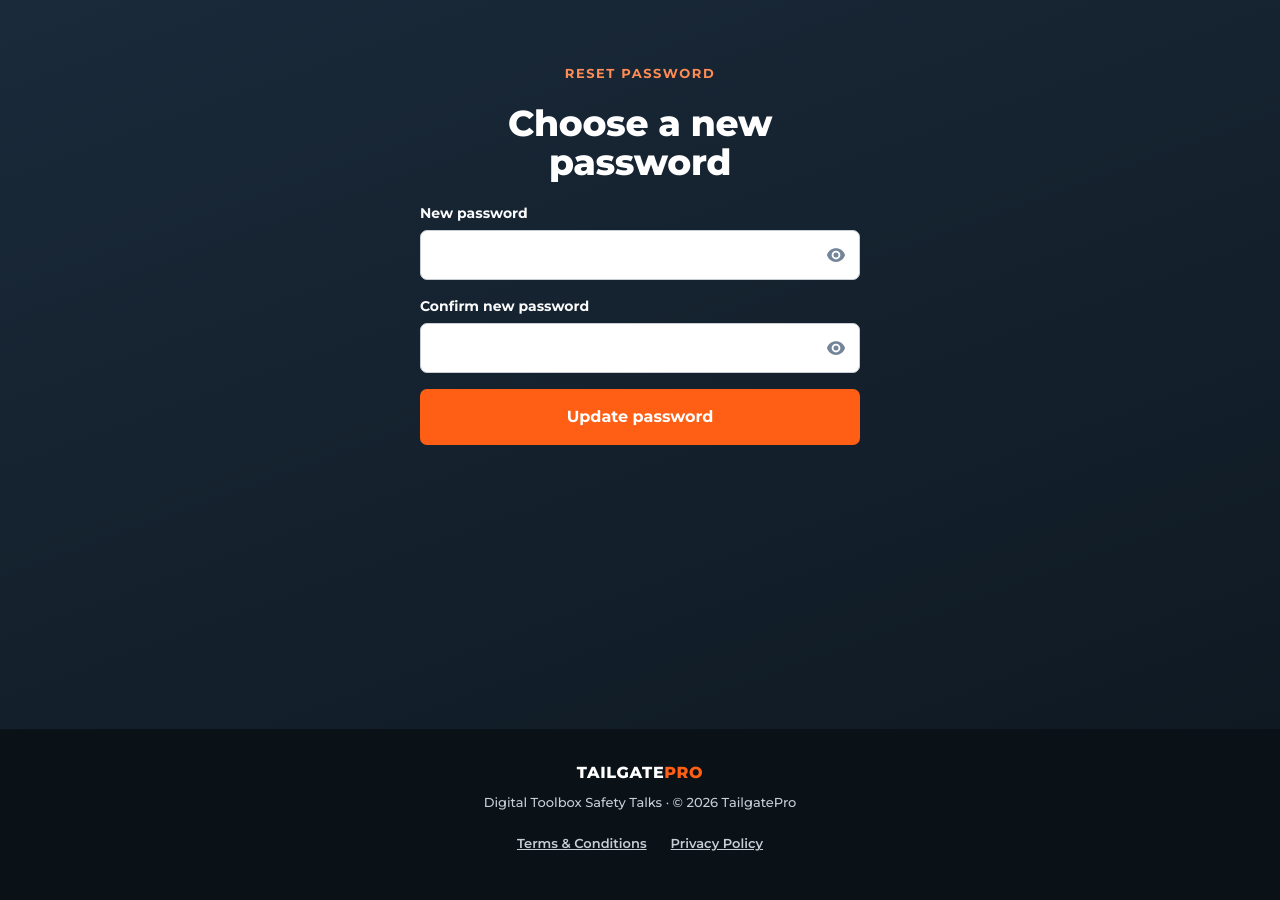
Scenario: ResetPassword page › shows a validation error when the passwords don't match
Type "supersecret" into the password field labelled "New password" at (640, 255), box [420,230,860,280]
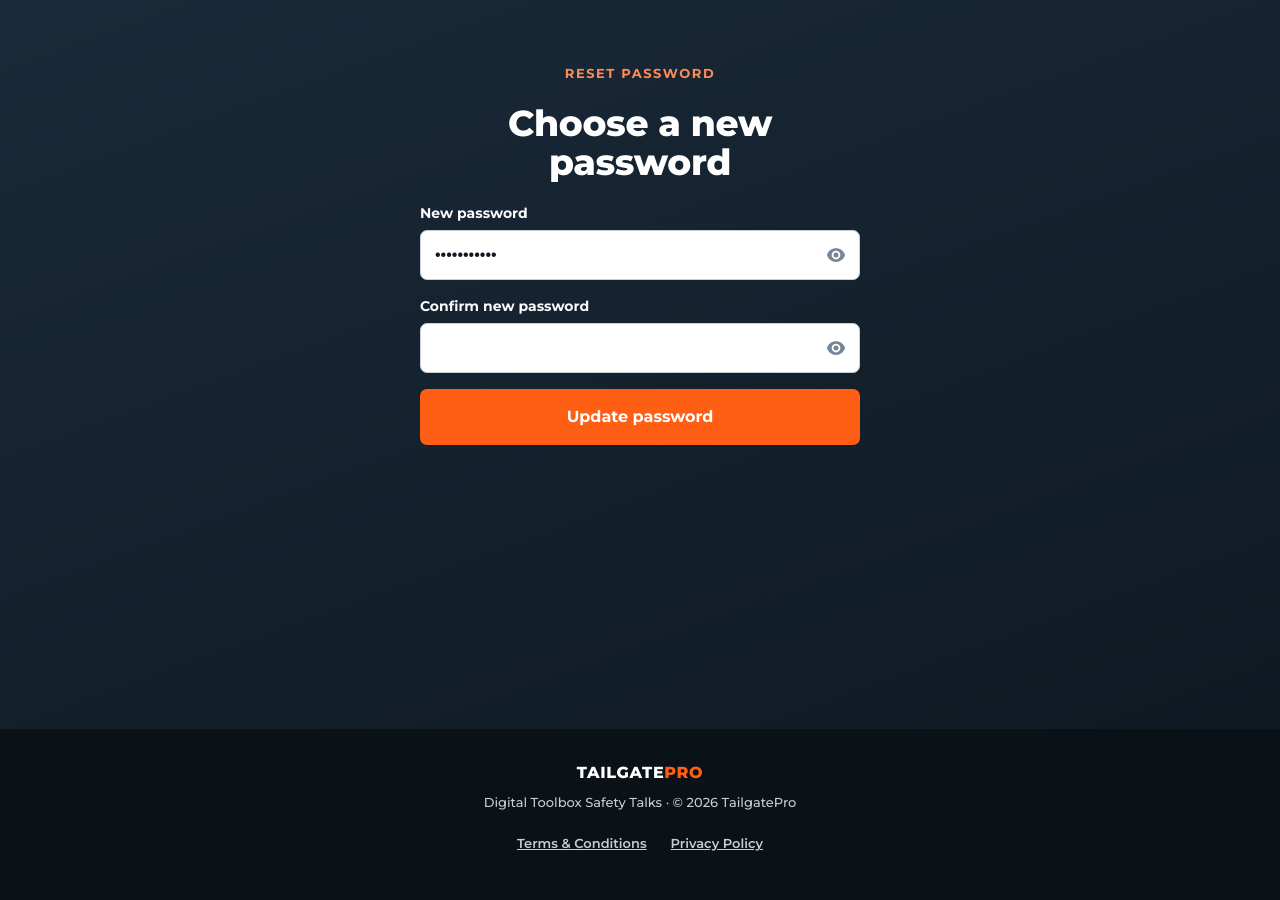
Type "different" into the password field labelled "Confirm new password" at (640, 348), box [420,323,860,373]
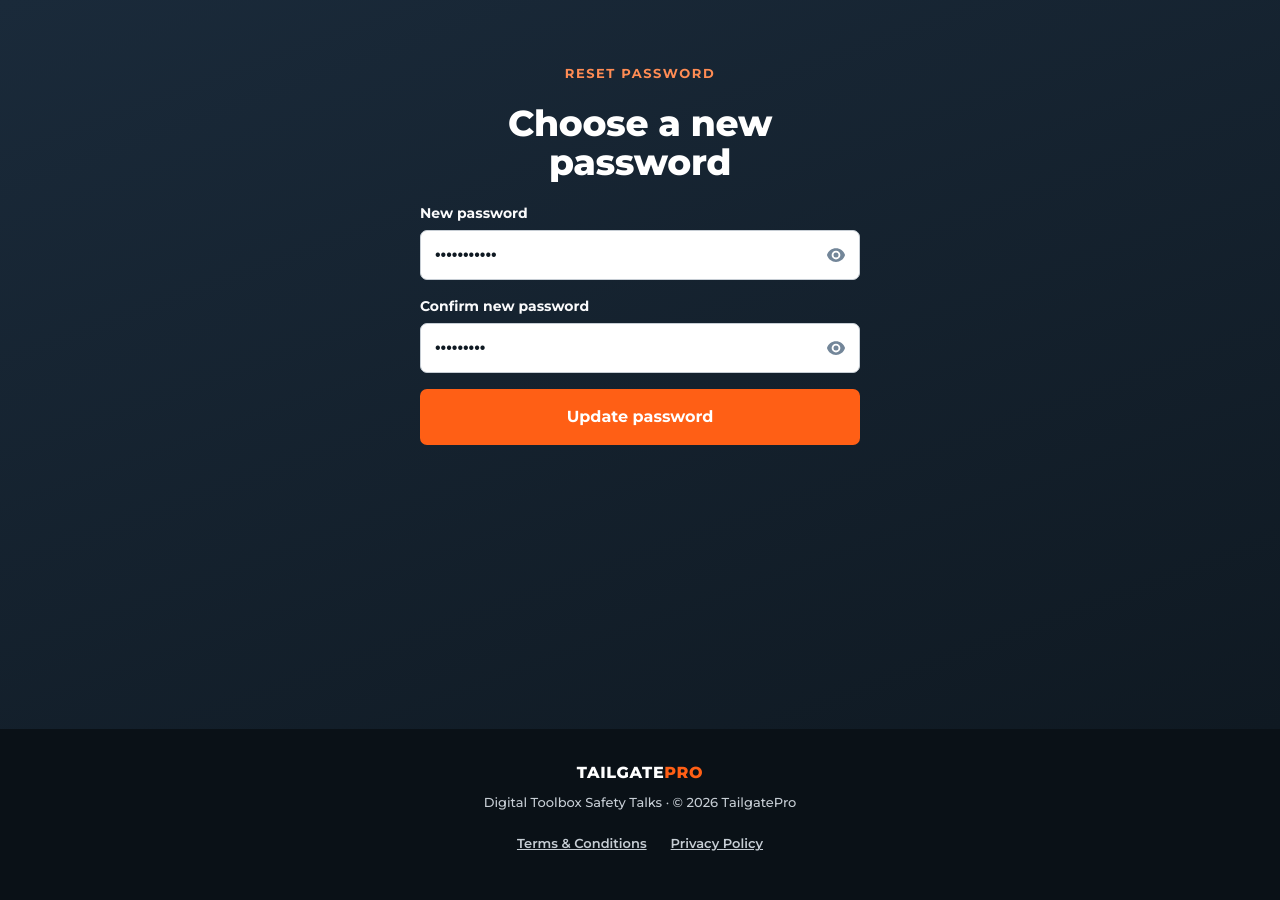
Click the button "Update password" at (640, 417), box [420,389,860,445]
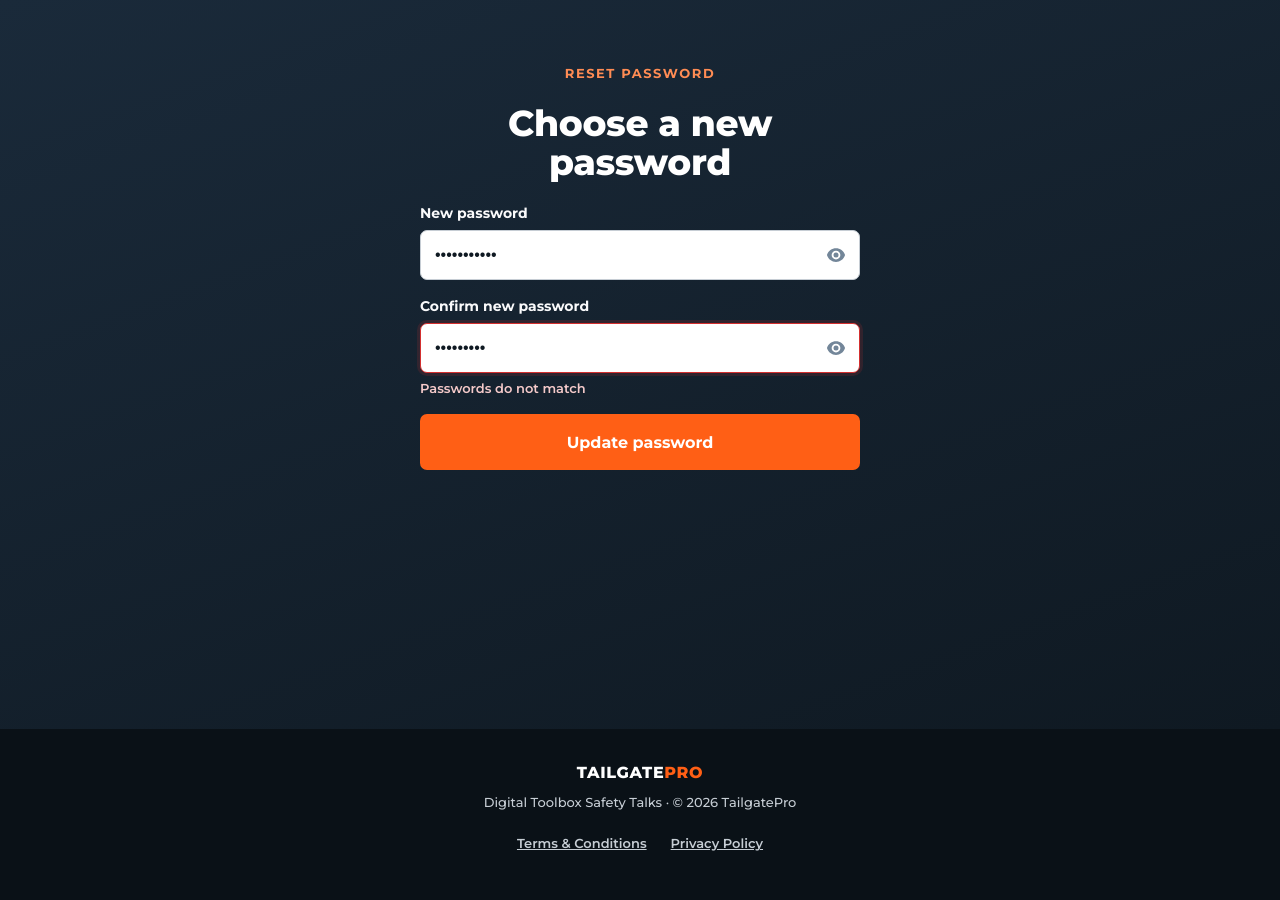
Expected: the text "Passwords do not match" is shown, [420,380,586,396]
